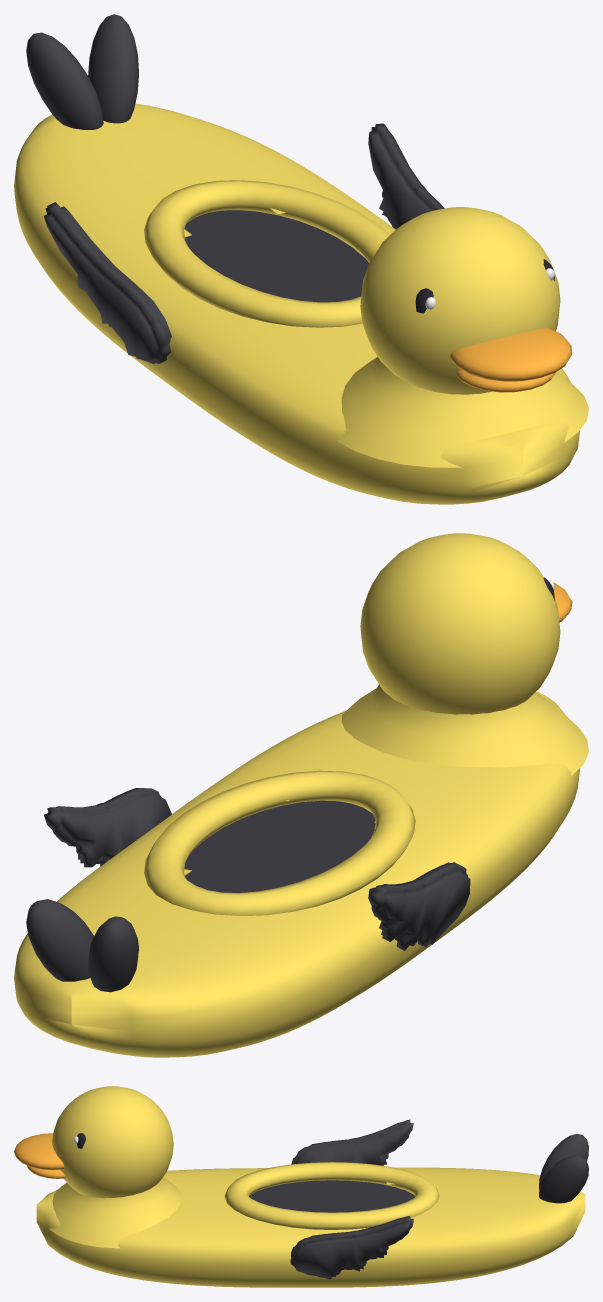
File: Kayak_Duck.glb
The picture shows the model from 3 angles, top to bottom: view 1: azimuth 30°, elevation 25°; view 2: azimuth 150°, elevation 25°; view 3: azimuth 270°, elevation 25°; orthographic projection. The views are drawn at different scales.
Parts seen in each view (by area): view 1: Duck_Body, Duck_Accents, Duck_Cockpit, Duck_Beak; view 2: Duck_Body, Duck_Accents, Duck_Cockpit; view 3: Duck_Body, Duck_Accents, Duck_Cockpit, Duck_Beak.
Boxes of the visible parts, x1,y1,x2,y2 form: Duck_Body: (14, 103, 588, 504); Duck_Accents: (26, 14, 444, 363); Duck_Cockpit: (184, 210, 369, 302); Duck_Beak: (449, 327, 572, 392); Duck_Body: (14, 533, 588, 1057); Duck_Accents: (26, 788, 470, 992); Duck_Cockpit: (184, 800, 375, 892); Duck_Body: (36, 1086, 585, 1287); Duck_Accents: (290, 1119, 588, 1279); Duck_Cockpit: (249, 1180, 415, 1212); Duck_Beak: (14, 1133, 65, 1178).
Size of the model in its own units: 3.98 by 3.15 by 9.43.
